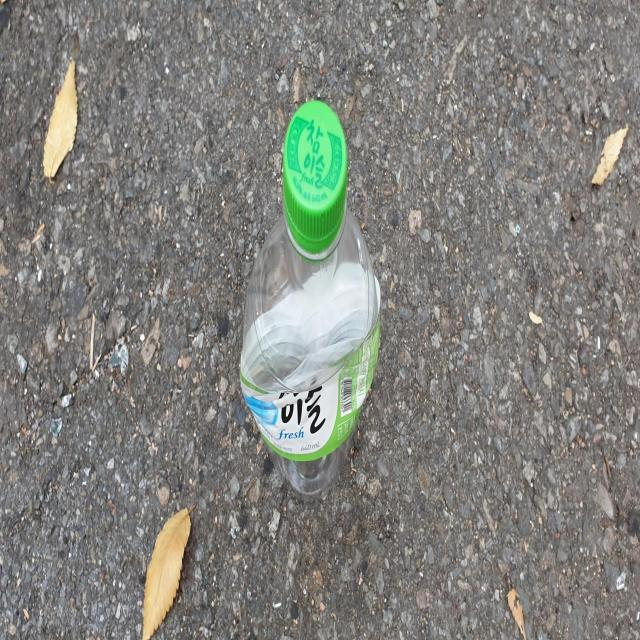plastic: (240, 100, 381, 497)
